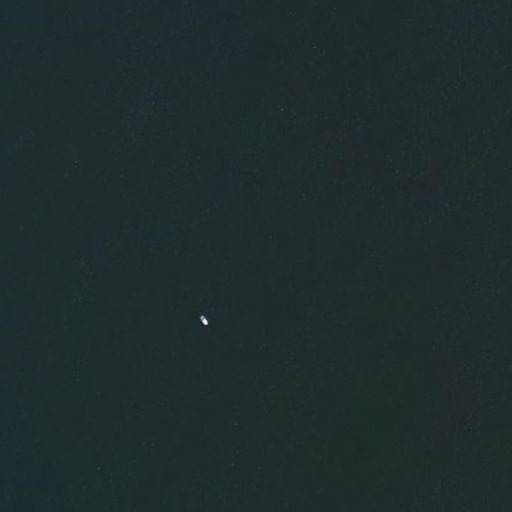ship: (197, 314, 210, 328)
